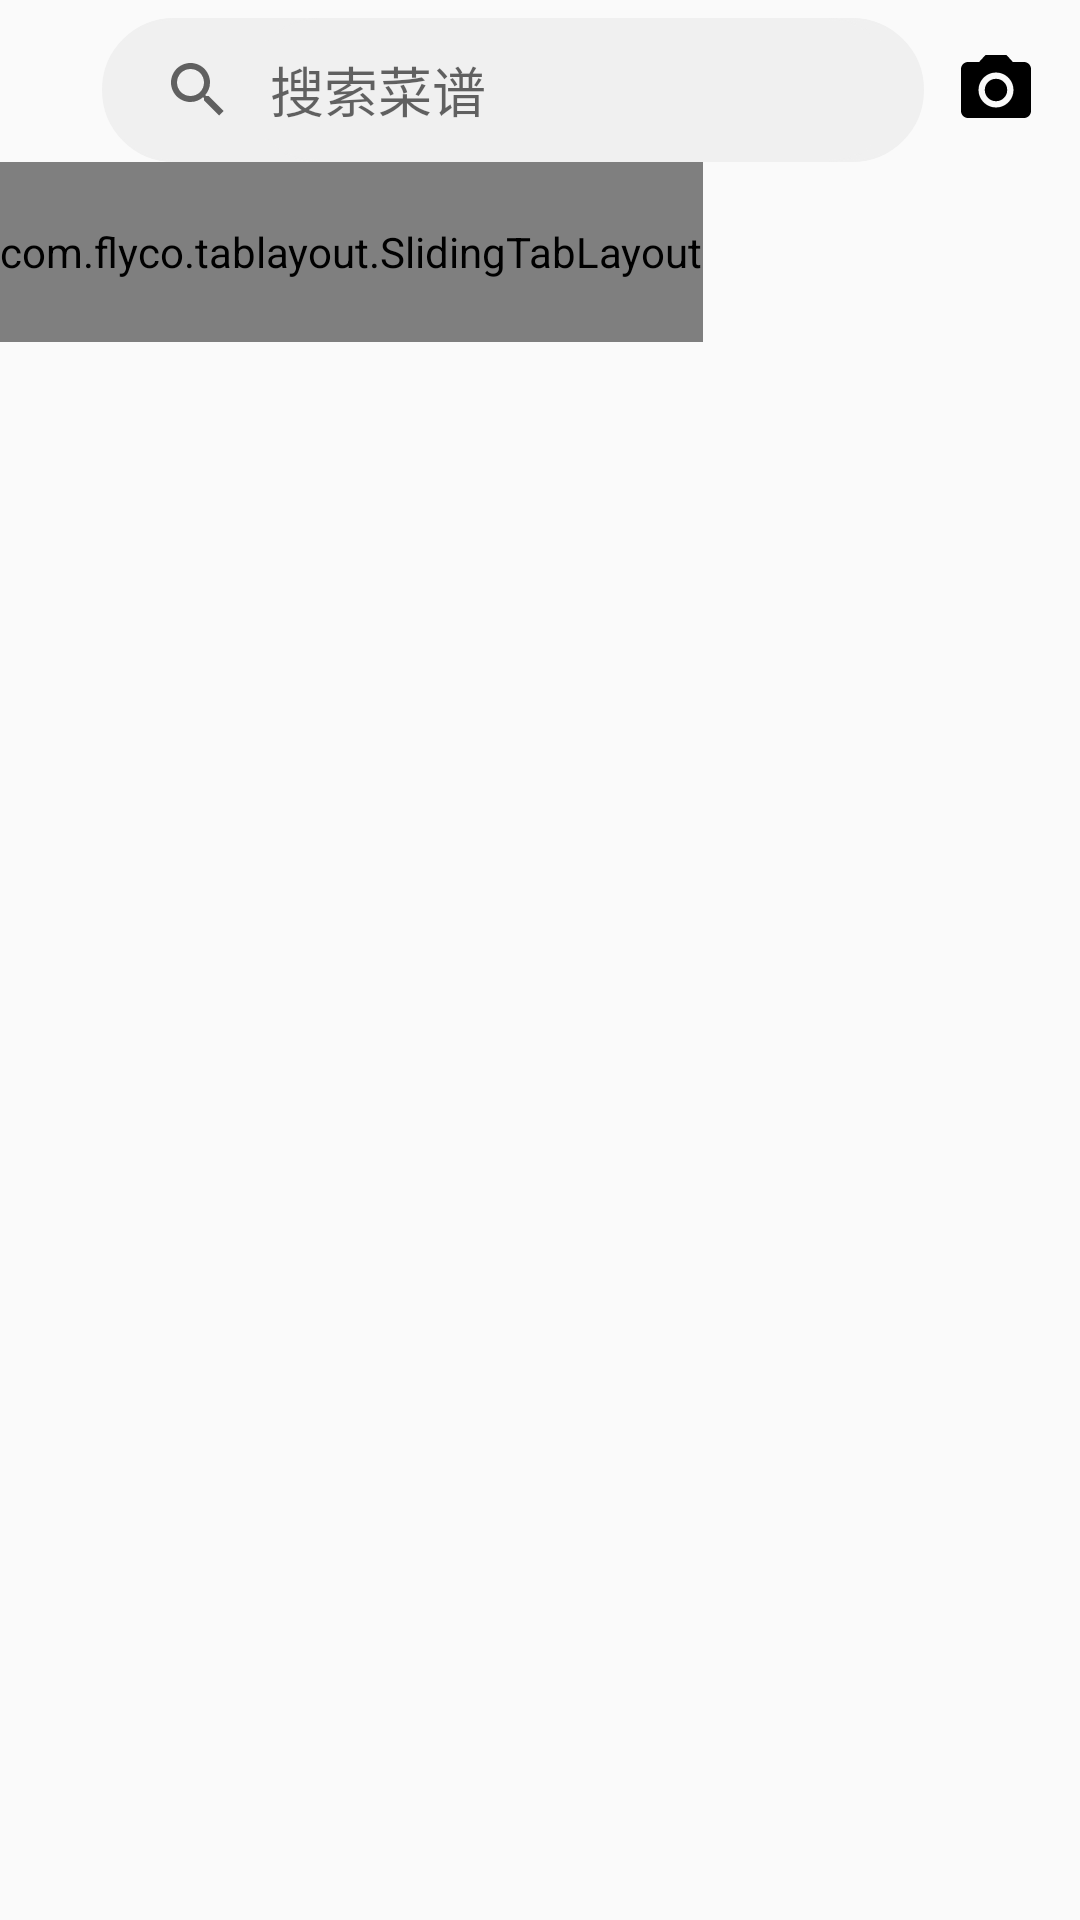

Screen size 1080×1920. Icon name, then its center in pixels as point (x, y):
camera: point (996, 86)
